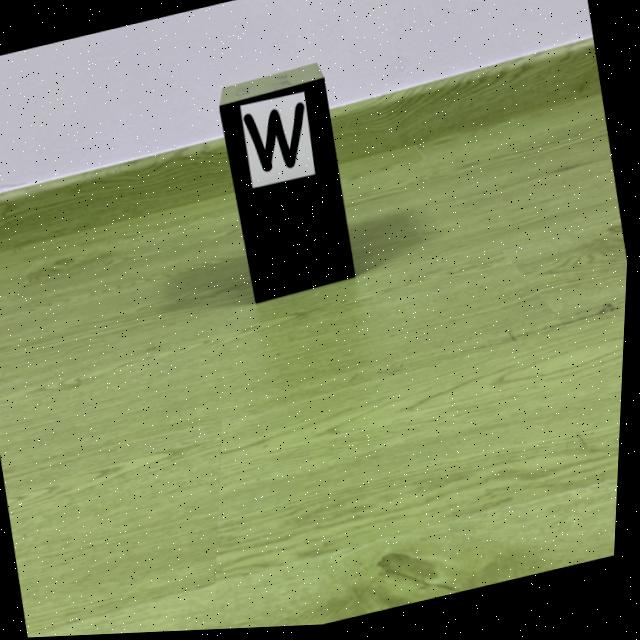W: (245, 105, 306, 175)
